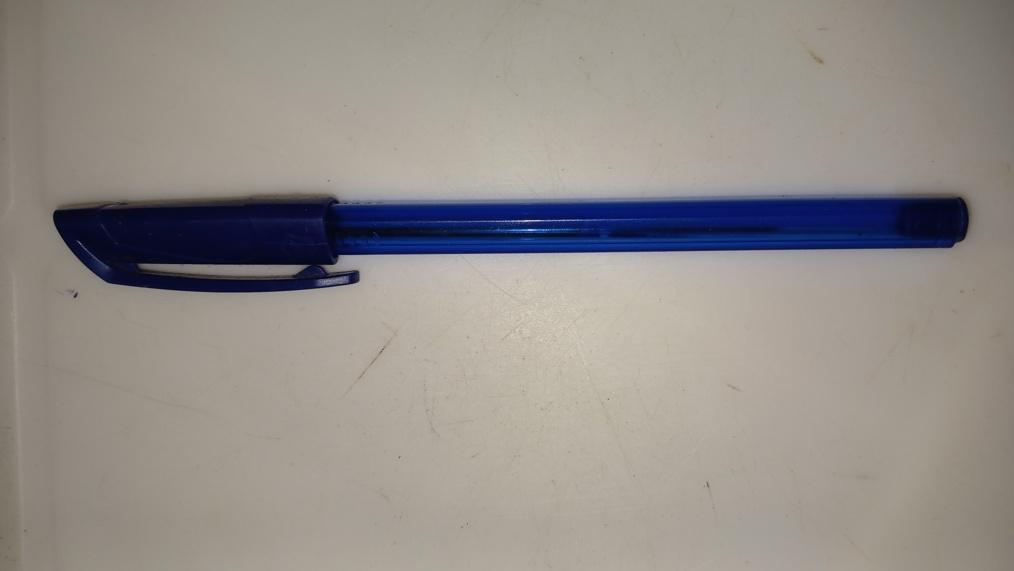pen: (49, 191, 974, 293)
